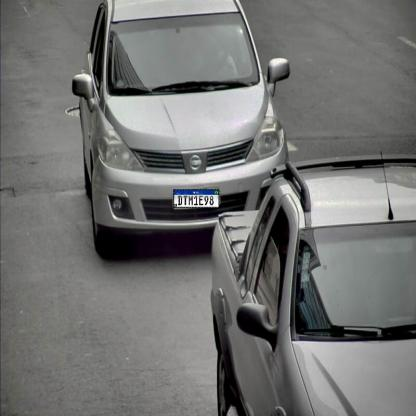PlacaM: (173, 189, 220, 208)
